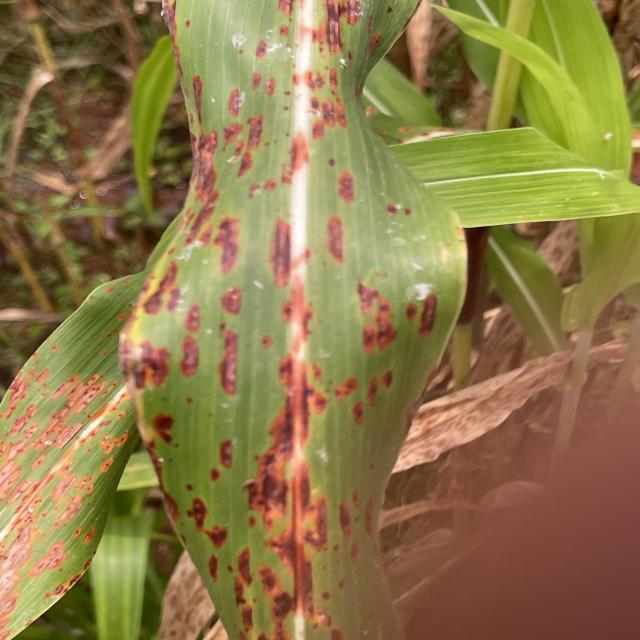millet_healthy: (457, 0, 640, 183), (391, 125, 640, 226)
millet_rust: (125, 2, 449, 633), (0, 276, 138, 634), (394, 343, 614, 470)
